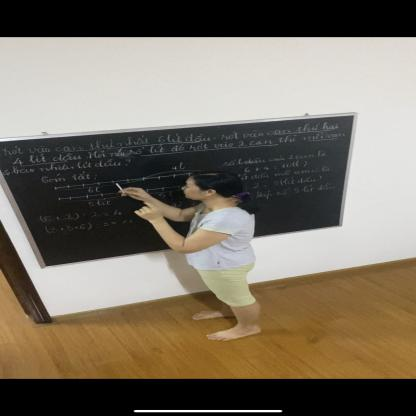cigarette: (114, 182, 123, 191)
person: (121, 174, 266, 343)
